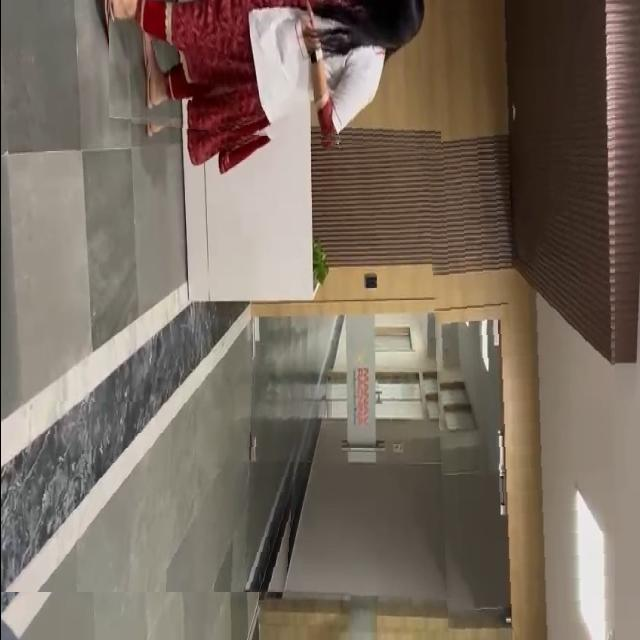floor: (0, 349, 301, 592), (0, 56, 143, 402)
moving_object: (420, 0, 614, 640), (108, 0, 440, 153)
